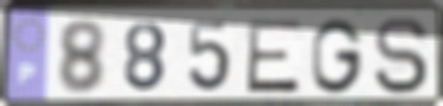5: (185, 19, 234, 95)
8: (56, 16, 109, 99), (123, 20, 170, 94)
E: (243, 17, 305, 96)
G: (309, 16, 367, 96)
S: (371, 14, 432, 97)
